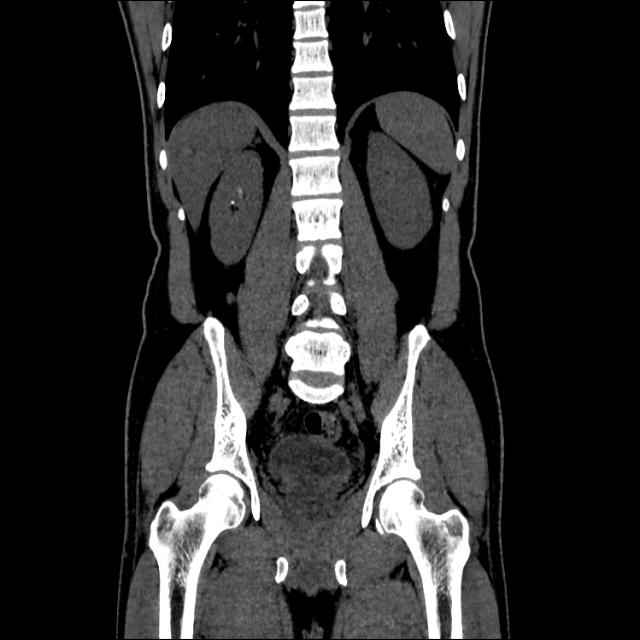kidney: (369, 141, 427, 237), (216, 158, 254, 256)
stone: (231, 200, 235, 204)
